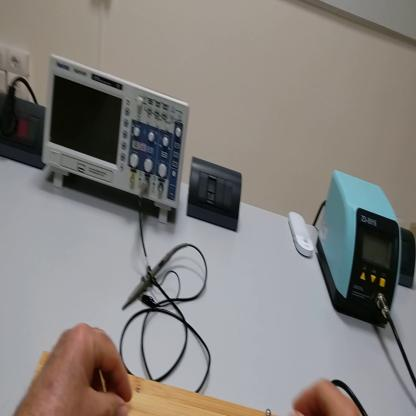hand: (15, 326, 133, 415), (292, 383, 363, 414)
oscilloscope: (46, 55, 191, 227)
oscilloscope probe tip: (123, 244, 181, 310)
socket: (2, 90, 49, 173), (401, 225, 416, 293)
welder station: (319, 171, 401, 331)
working area: (38, 354, 274, 416)
